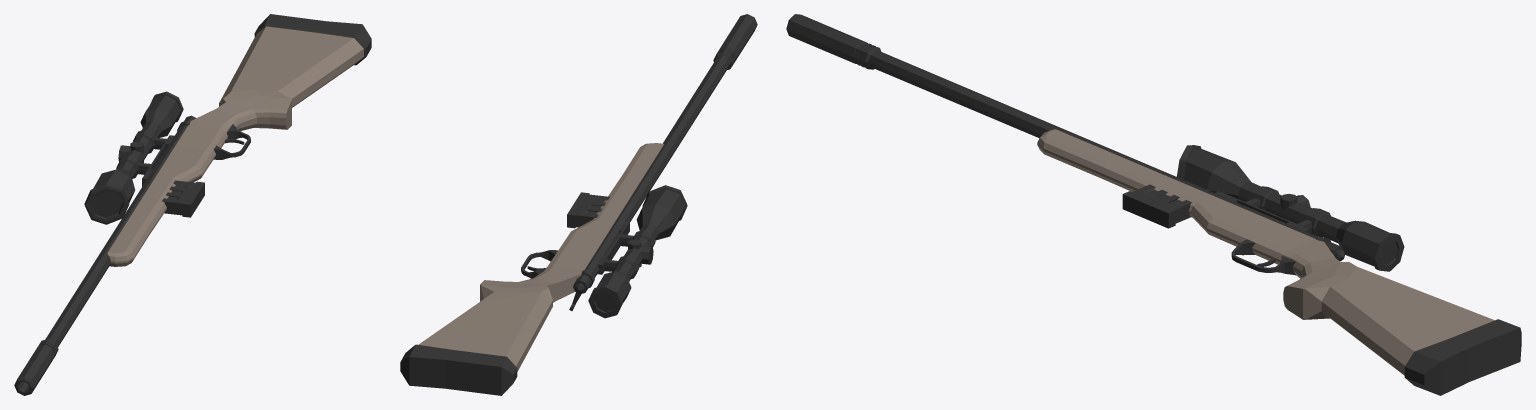
File: Guns_7.fbx
3 views of the same model, side by side, from view 1: azimuth 30°, elevation 25°; view 2: azimuth 210°, elevation 25°; view 3: azimuth 270°, elevation 25° (orthographic). The views are drawn at different scales.
Parts seen in each view (by area): view 1: Gun-7; view 2: Gun-7; view 3: Gun-7.
Part boxes in pixels (bbox=[...]): Gun-7: bbox=[14, 14, 371, 395]; Gun-7: bbox=[400, 14, 757, 395]; Gun-7: bbox=[786, 14, 1521, 395].
Size of the model in its own units: 3.67 by 0.2971 by 3.18.
